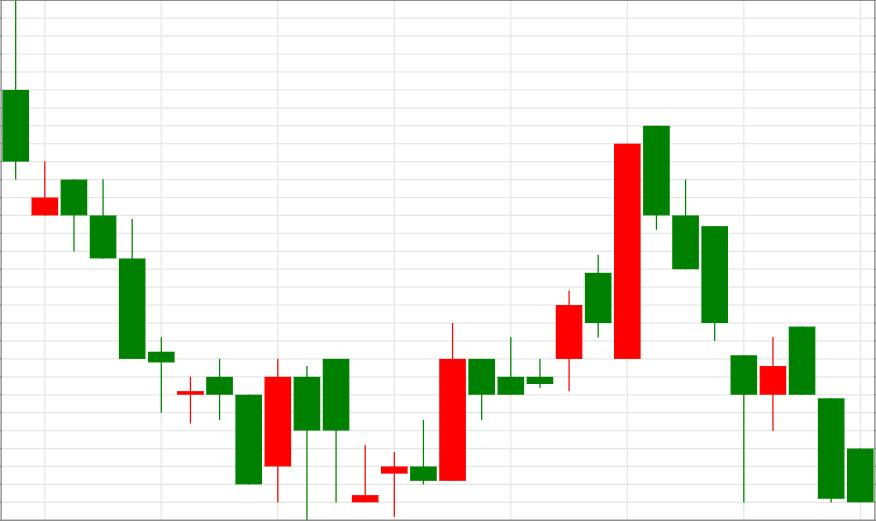hammer_rise: (643, 125, 757, 503)
